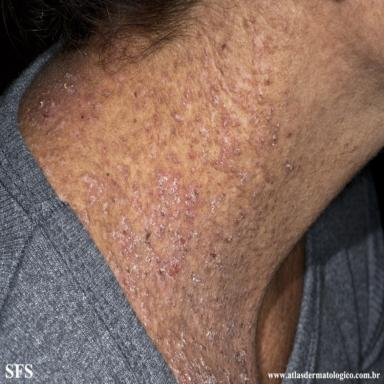Darier_s-Disease: (19, 0, 315, 383)
